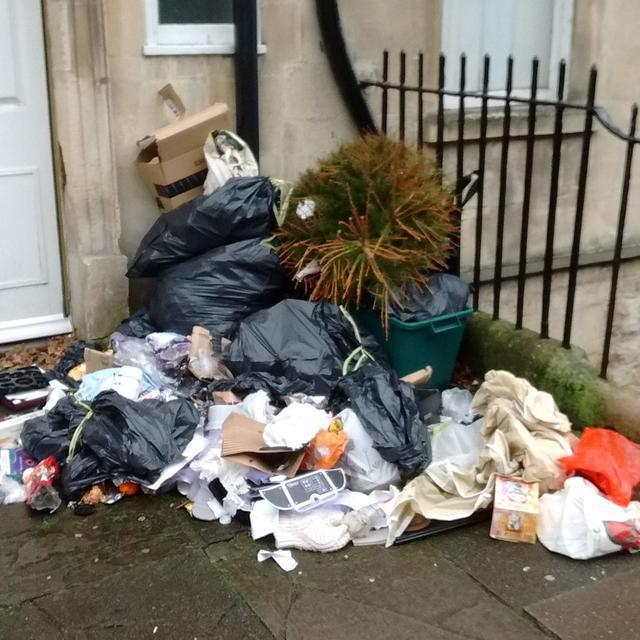garbage: (0, 313, 383, 581), (343, 365, 635, 557), (117, 99, 294, 342)
